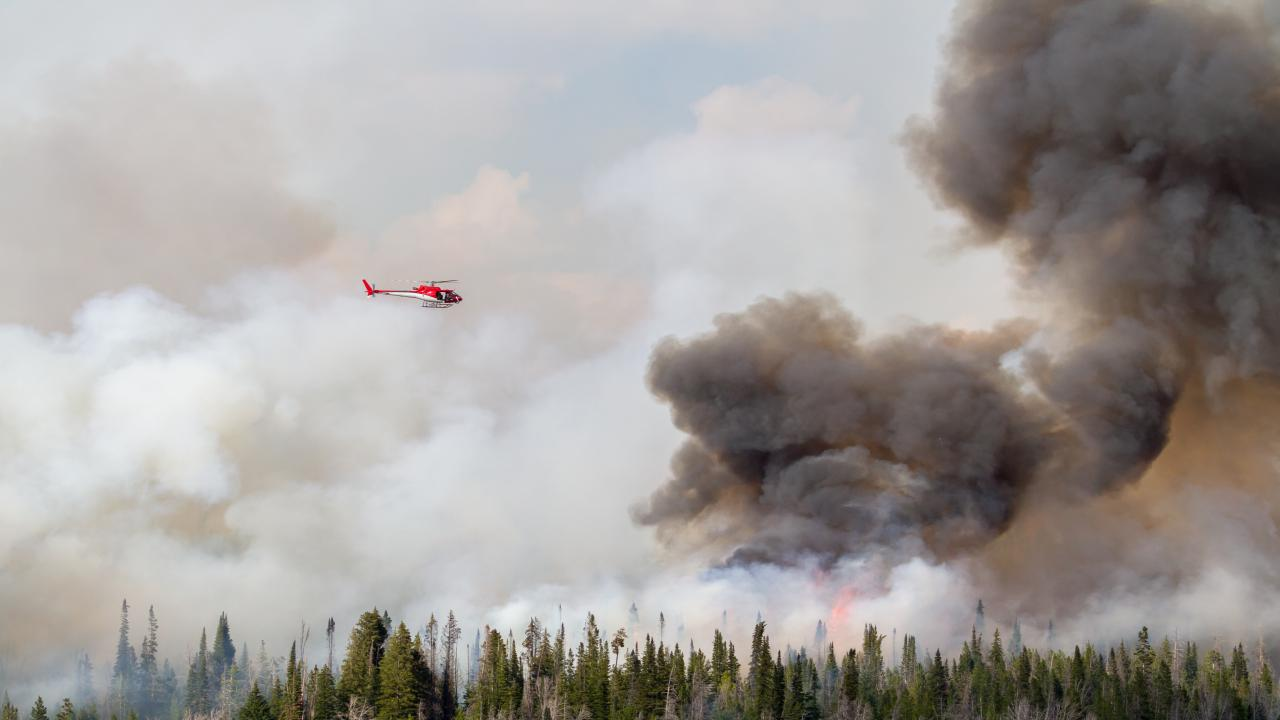Helicopter: (330, 241, 493, 344)
